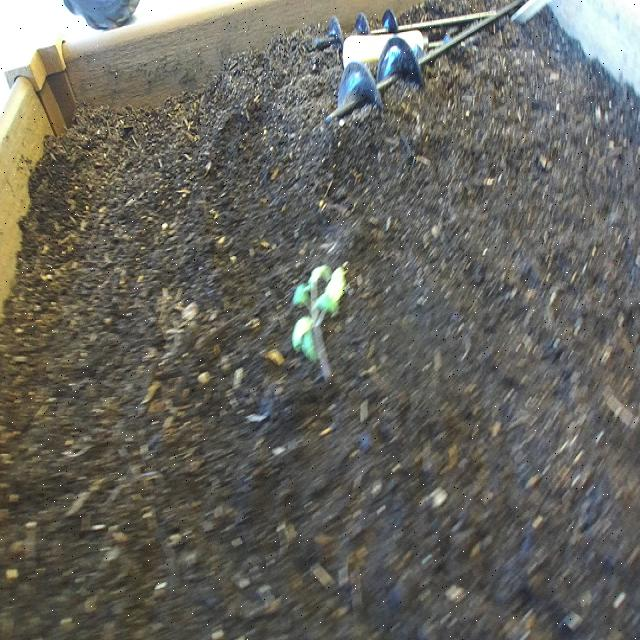Healthy: (280, 253, 354, 398)
